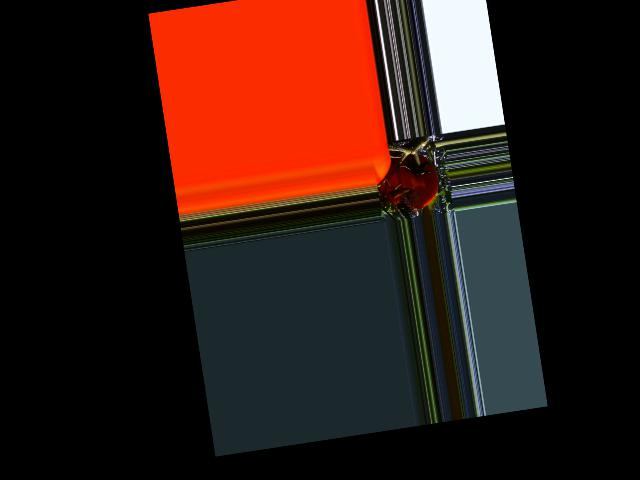tomato: (374, 150, 442, 216)
